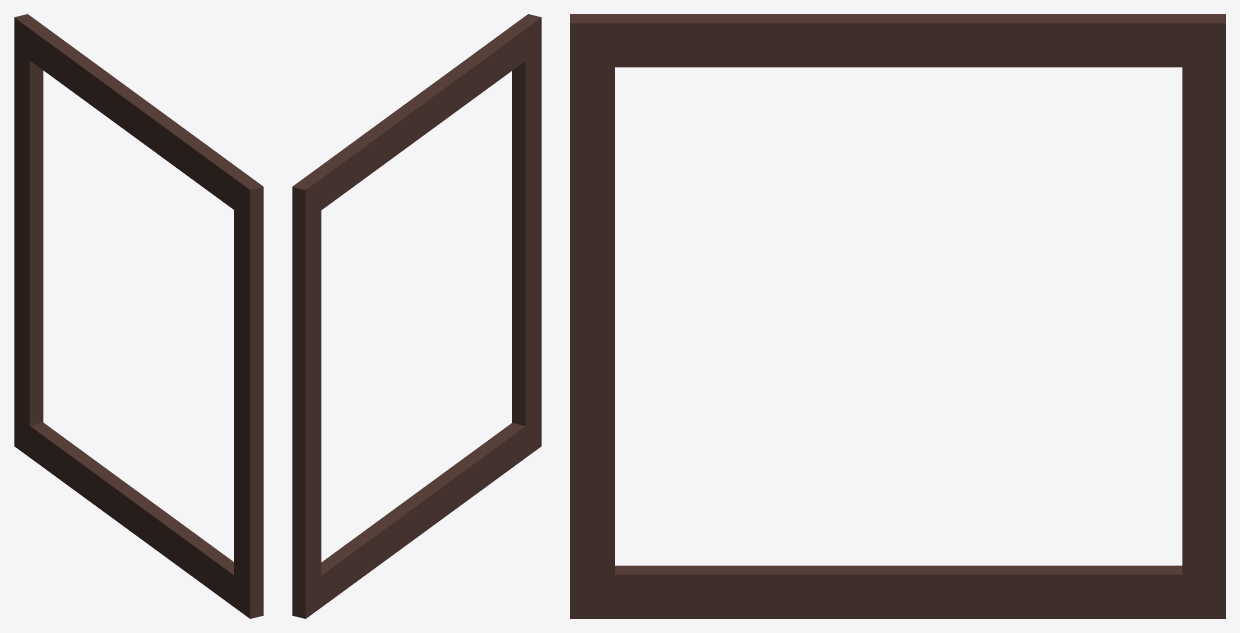
Rendered from FrameRect.obj.
The picture shows the model from 3 angles, left to right: view 1: azimuth 30°, elevation 25°; view 2: azimuth 150°, elevation 25°; view 3: azimuth 270°, elevation 25°; orthographic projection. The views are drawn at different scales.
Visible parts, largest first — view 1: Cube; view 2: Cube; view 3: Cube.
Boxes of the visible parts, x1,y1,x2,y2 form: Cube: (14,14,263,618); Cube: (292,14,541,618); Cube: (570,14,1225,618).
Bounding box in the file's own units: 0.0659 × 1.99 × 1.98.
